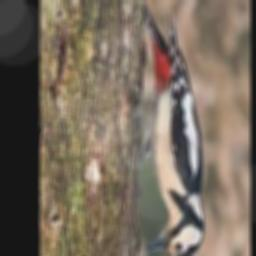Woodpecker: (126, 4, 203, 256)
